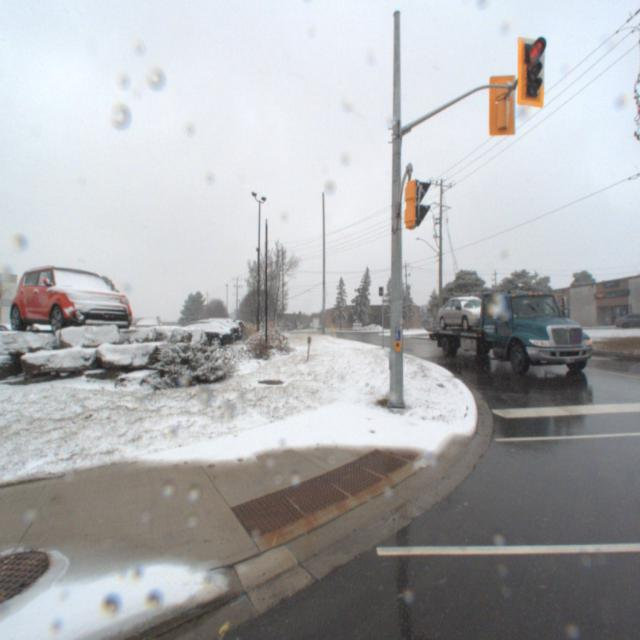Car: (0, 250, 143, 336), (145, 316, 235, 350), (161, 315, 234, 347), (173, 313, 239, 346)
Truck: (409, 272, 611, 385)
